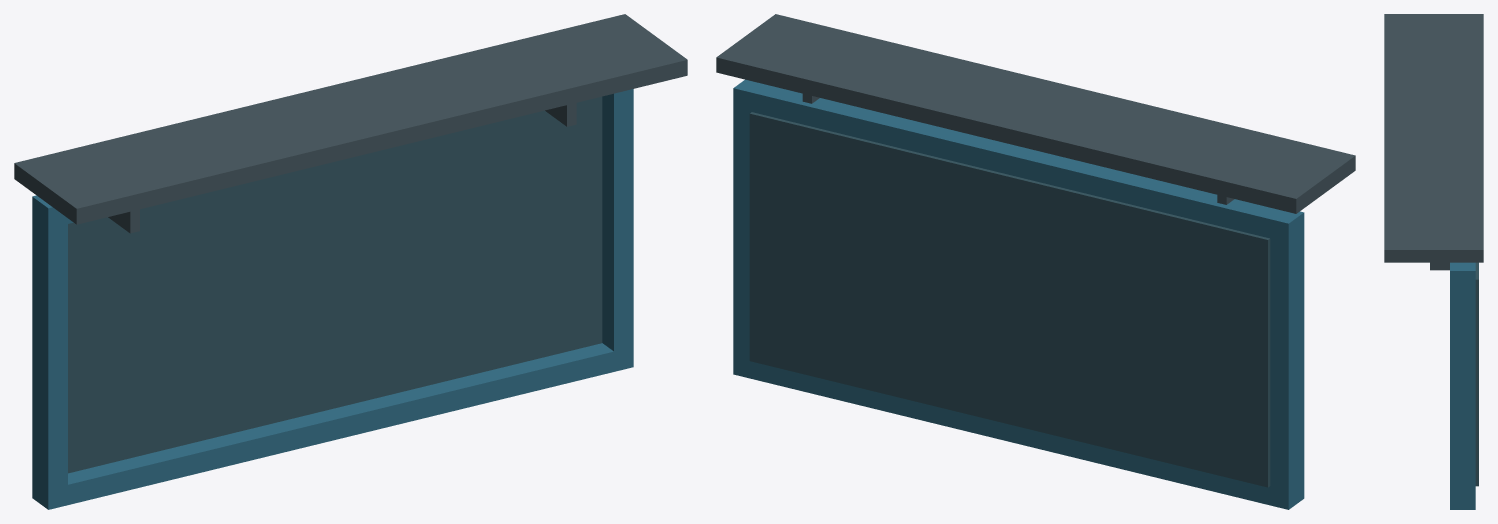
The model's file is window_28.glb.
The picture shows the model from 3 angles, left to right: view 1: azimuth 30°, elevation 25°; view 2: azimuth 150°, elevation 25°; view 3: azimuth 270°, elevation 25°; orthographic projection. The views are drawn at different scales.
Parts seen in each view (by area): view 1: window_28; view 2: window_28; view 3: window_28.
Part boxes in pixels (x1,y1,x2,y2): window_28: (14,14,687,509); window_28: (716,14,1355,509); window_28: (1384,14,1483,509).
Size of the model in its own units: 2.82 by 1.48 by 0.5.
